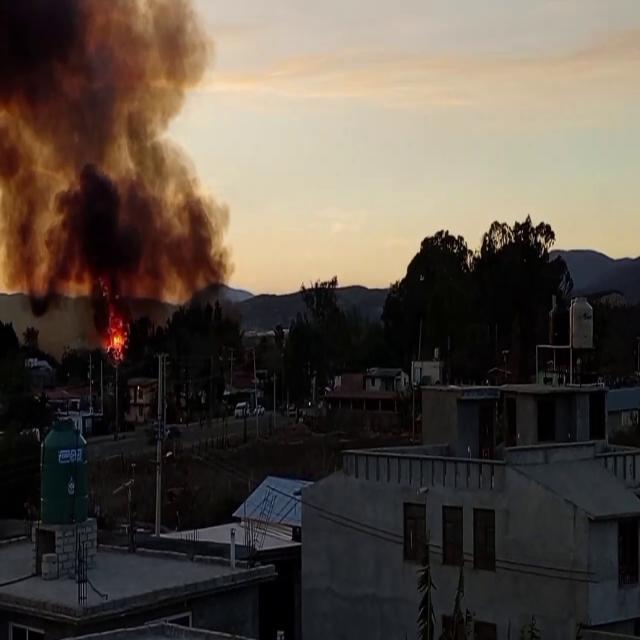Fire: (105, 316, 128, 360)
Smoke: (0, 0, 234, 308)
